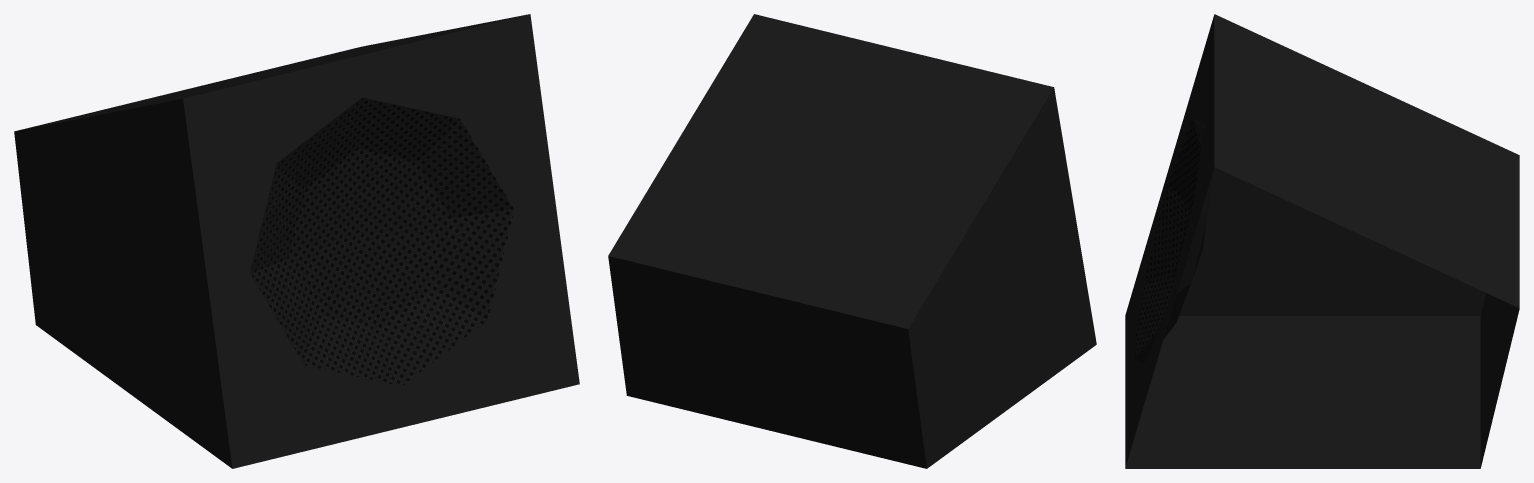
Rendered from Itr_Obj_Speaker2_Left_02.FBX.
3 renders of one model, left to right at view 1: azimuth 30°, elevation 25°; view 2: azimuth 150°, elevation 25°; view 3: azimuth 270°, elevation 25°, orthographic. The views are drawn at different scales.
Parts seen in each view (by area): view 1: Itr_Obj_Speaker2_Left_02; view 2: Itr_Obj_Speaker2_Left_02; view 3: Itr_Obj_Speaker2_Left_02.
Boxes of the visible parts, x1,y1,x2,y2 form: Itr_Obj_Speaker2_Left_02: (14,14,579,468); Itr_Obj_Speaker2_Left_02: (608,14,1096,468); Itr_Obj_Speaker2_Left_02: (1125,14,1519,468).
Bounding box in the file's own units: 10.38 × 9.54 × 11.31.
